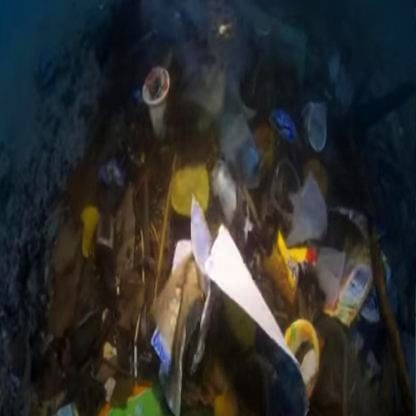plastic: (166, 209, 306, 416), (336, 224, 403, 321), (260, 210, 322, 299)
